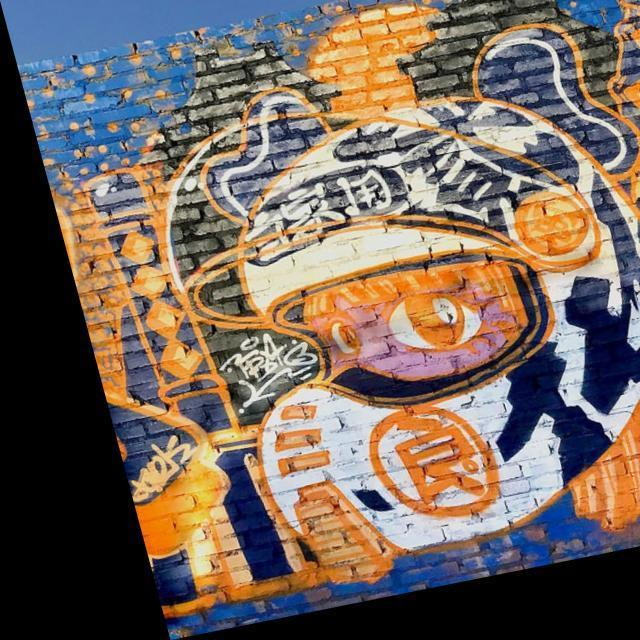-: (156, 53, 640, 586), (196, 334, 304, 416), (96, 437, 190, 512)
